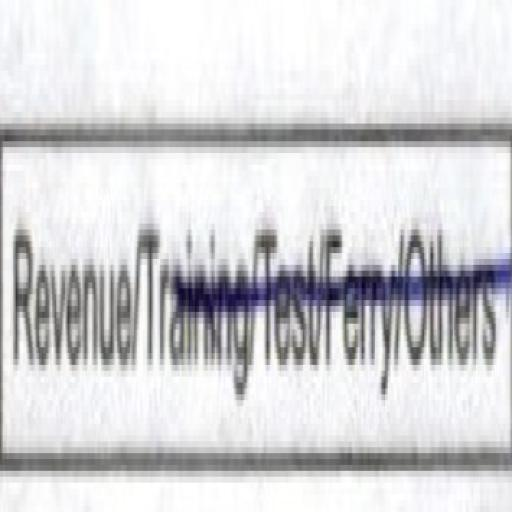check: (0, 12, 140, 512)
